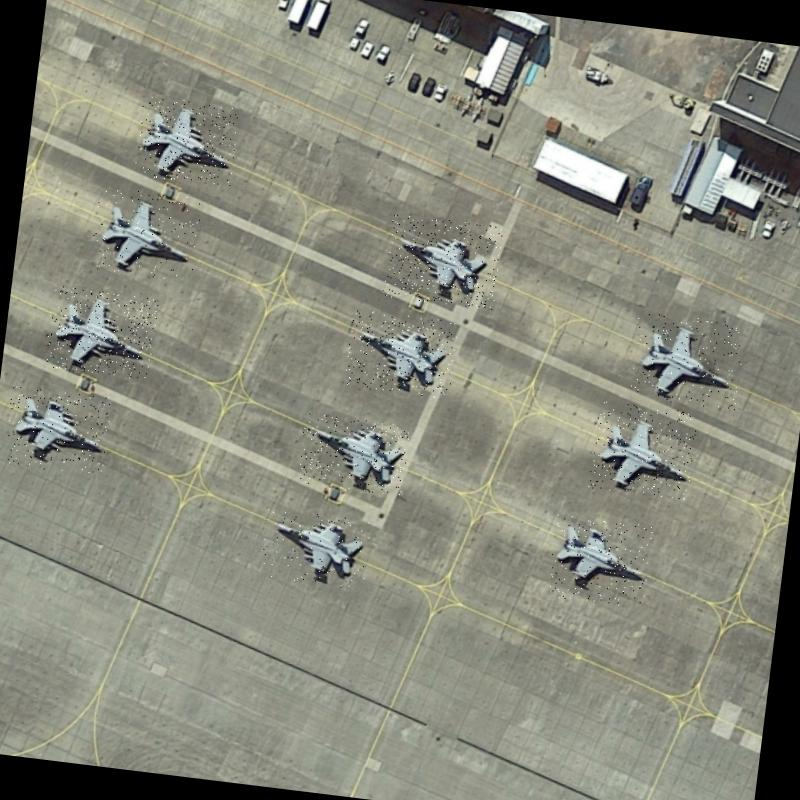A16: (382, 212, 503, 310), (628, 310, 746, 410), (588, 400, 698, 500), (89, 186, 202, 282), (44, 285, 158, 380), (343, 308, 458, 399), (2, 385, 112, 476), (546, 514, 652, 608), (134, 94, 240, 186), (260, 504, 372, 590), (296, 412, 410, 496)
